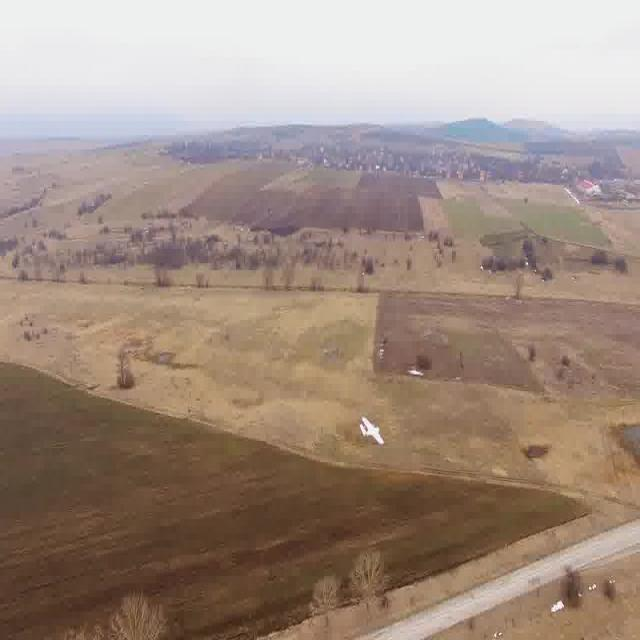iha: (351, 407, 391, 459)
